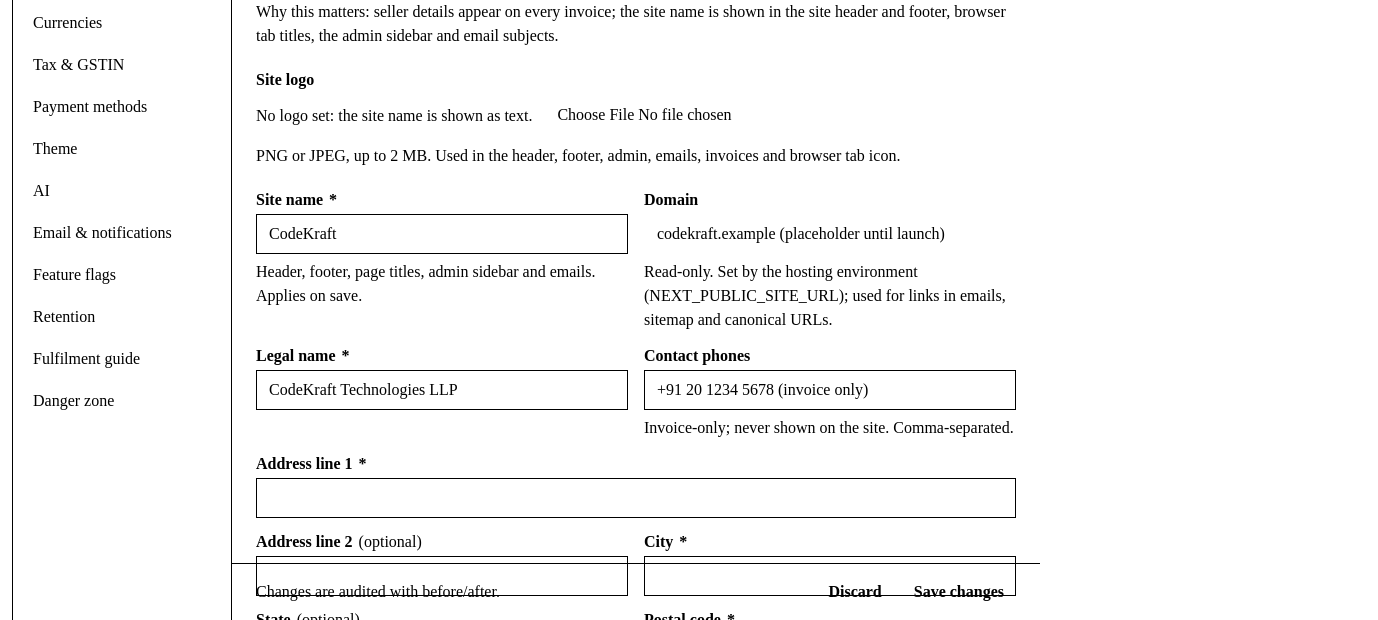
SettingsScreen save (BUG-059) › general section shows field errors from the server
Click the button "Save changes" at (959, 592), box [902,576,1016,608]
(page scrolled)
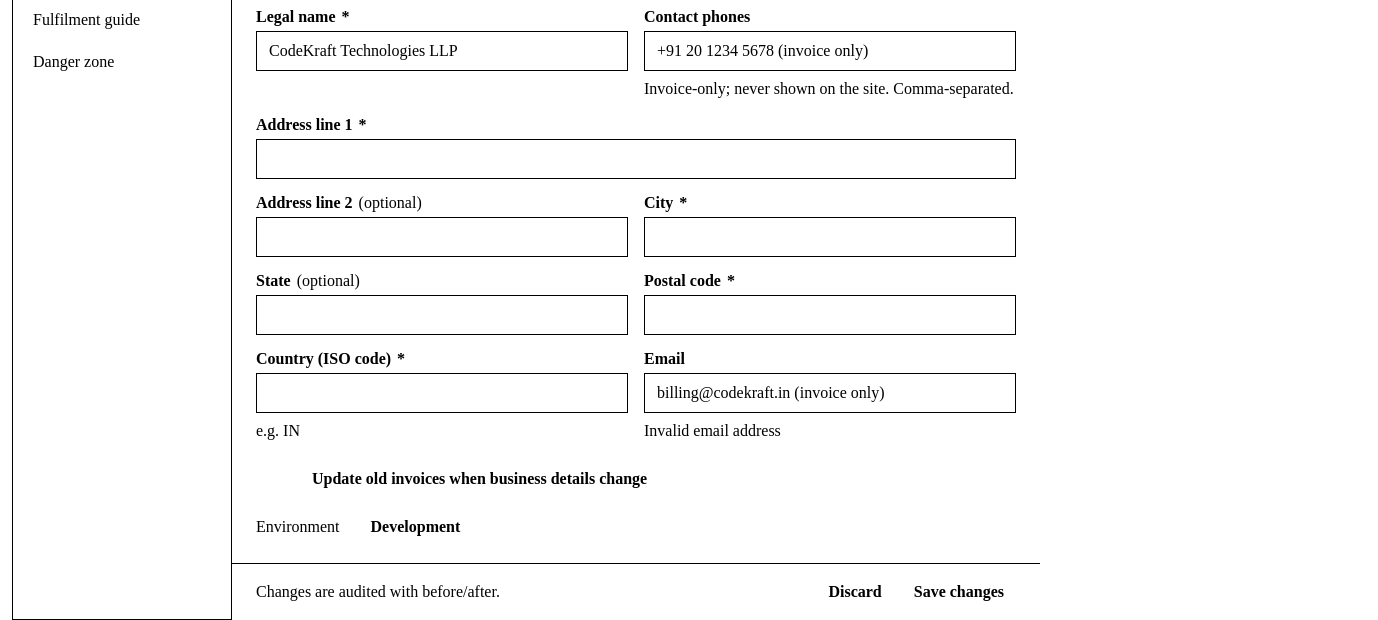
Result: the text "Invalid email address" is shown at [644,422,781,439]
